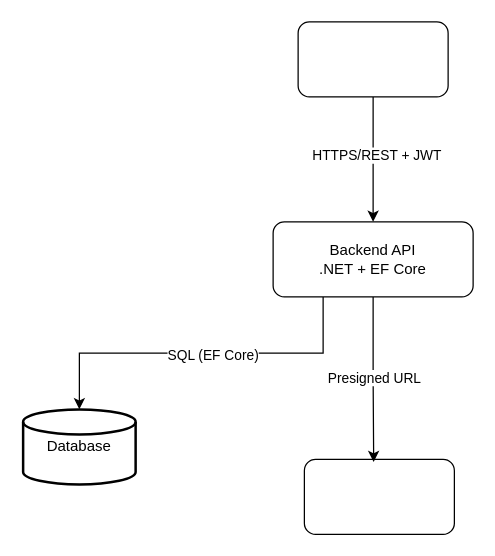
The diagram is 495 pixels wide and 556 high, and some of its shapes have lost their labels. Here are the shapes that lost their labels. From the top down, the centre of each, then its label:
point (372, 59): Browser React / Vite
point (378, 496): Object Storage SeaweedFS Filer
